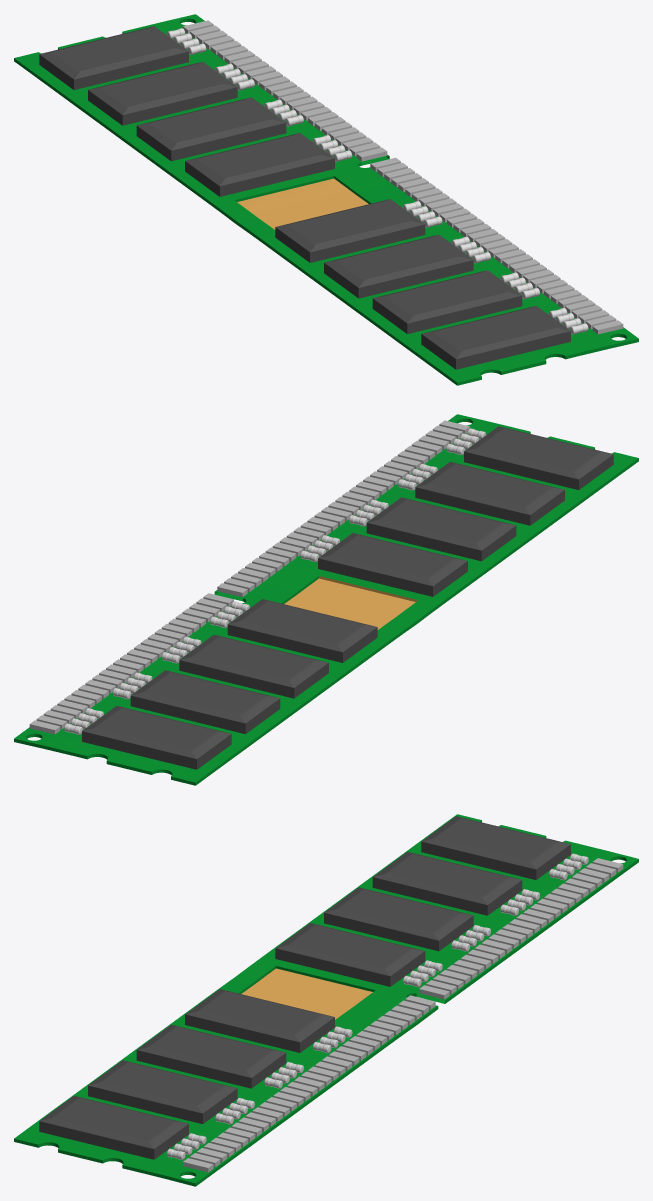
File: OrangeRAMModel.fbx
3 views of the same model, one above another, from view 1: azimuth 30°, elevation 25°; view 2: azimuth 150°, elevation 25°; view 3: azimuth 330°, elevation 25° (orthographic).
Parts seen in each view (by area): view 1: polySurface14; view 2: polySurface14; view 3: polySurface14.
Boxes of the visible parts, <box> form: polySurface14: <box>14,14,638,385</box>; polySurface14: <box>14,414,638,785</box>; polySurface14: <box>14,814,638,1186</box>.
Bounding box in the file's own units: 3.78 × 0.355 × 15.96.
